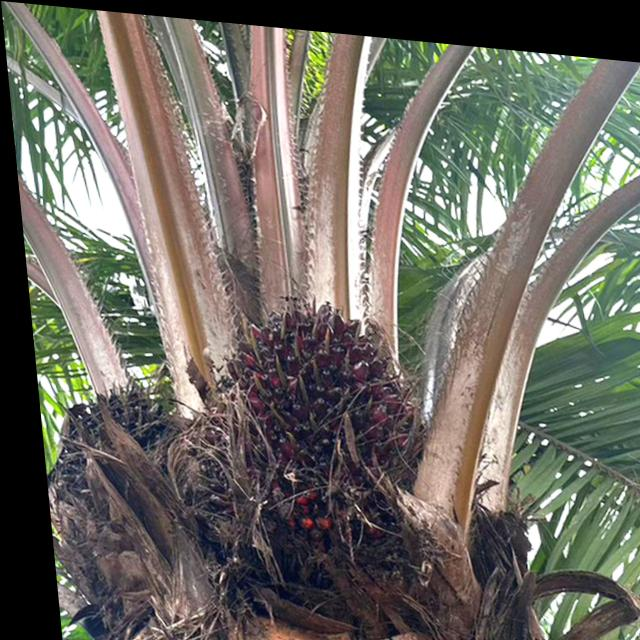ripe: (183, 269, 446, 562)
